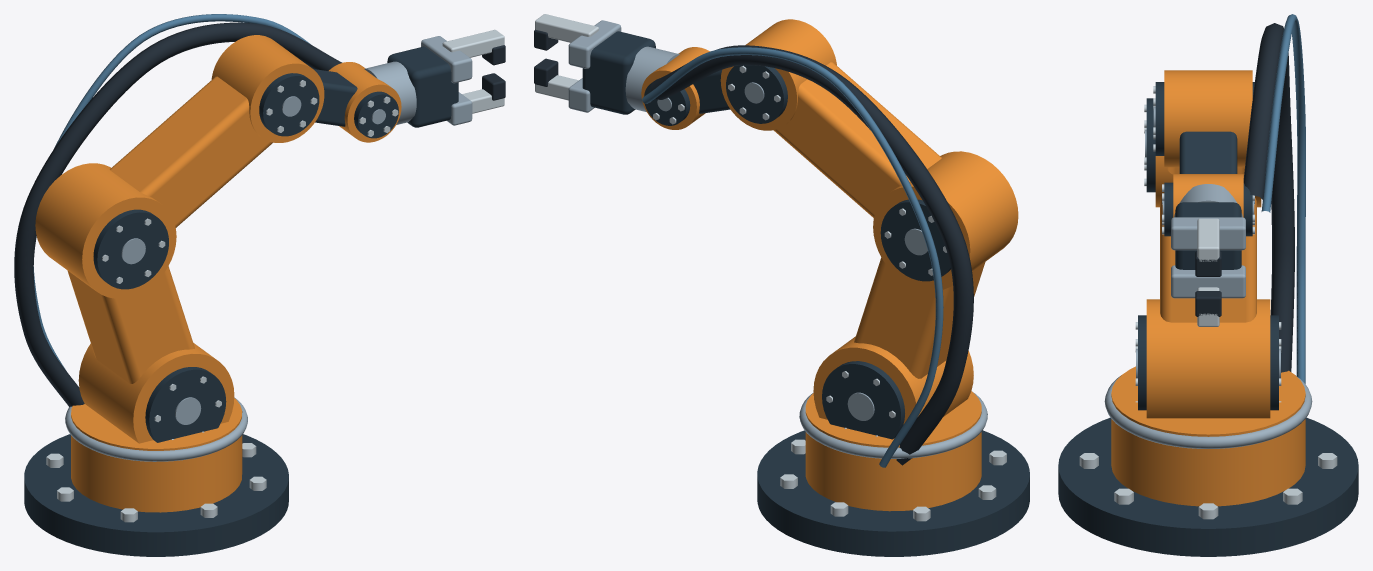
File: industrial-arm.gltf
The picture shows the model from 3 angles, left to right: view 1: azimuth 30°, elevation 25°; view 2: azimuth 150°, elevation 25°; view 3: azimuth 270°, elevation 25°; orthographic projection. The views are drawn at different scales.
Visible parts, largest first — view 1: Foot_flange, Forearm_casting, Rotary_base, Flexible_cable_loom, Joint_2_housing, Upper_arm_casting, Joint_1_housing, Joint_3_housing, Joint_2_cover_1, Joint_1_cover_1, Pneumatic_gripper_body, Joint_3_cover_1 (+8 smaller); view 2: Foot_flange, Rotary_base, Flexible_cable_loom, Forearm_casting, Joint_2_housing, Upper_arm_casting, Control_air_line, Joint_1_cover_-1, Joint_1_housing, Joint_3_housing, Pneumatic_gripper_body, Joint_2_cover_-1 (+11 smaller); view 3: Foot_flange, Rotary_base, Joint_1_housing, Flexible_cable_loom, Joint_3_housing, Control_air_line, Upper_arm_casting, Base_bearing, Wrist_link, Pneumatic_gripper_body, Gripper_slide_1, Gripper_slide_-1 (+13 smaller).
Part boxes in pixels (<box>): Foot_flange: <box>24,434,288,556</box>; Forearm_casting: <box>110,76,272,227</box>; Rotary_base: <box>71,398,242,512</box>; Flexible_cable_loom: <box>14,22,342,406</box>; Joint_2_housing: <box>35,163,176,298</box>; Upper_arm_casting: <box>67,266,194,383</box>; Joint_1_housing: <box>78,343,234,443</box>; Joint_3_housing: <box>211,35,324,142</box>; Joint_2_cover_1: <box>93,209,168,289</box>; Joint_1_cover_1: <box>145,367,226,442</box>; Pneumatic_gripper_body: <box>387,46,458,127</box>; Joint_3_cover_1: <box>259,73,319,136</box>; Foot_flange: <box>757,430,1029,556</box>; Rotary_base: <box>805,391,981,511</box>; Flexible_cable_loom: <box>650,45,973,465</box>; Forearm_casting: <box>773,62,941,217</box>; Joint_2_housing: <box>873,151,1018,290</box>; Upper_arm_casting: <box>854,257,985,378</box>; Control_air_line: <box>642,47,943,467</box>; Joint_1_cover_-1: <box>822,361,904,439</box>; Joint_1_housing: <box>813,336,973,424</box>; Joint_3_housing: <box>720,19,836,130</box>; Pneumatic_gripper_body: <box>582,31,655,114</box>; Joint_2_cover_-1: <box>880,199,950,281</box>; Foot_flange: <box>1058,417,1358,556</box>; Rotary_base: <box>1111,366,1305,506</box>; Joint_1_housing: <box>1146,299,1270,418</box>; Flexible_cable_loom: <box>1243,23,1294,372</box>; Joint_3_housing: <box>1164,70,1252,167</box>; Control_air_line: <box>1261,14,1305,383</box>; Upper_arm_casting: <box>1160,198,1256,322</box>; Base_bearing: <box>1104,375,1312,448</box>; Wrist_link: <box>1179,131,1237,173</box>; Pneumatic_gripper_body: <box>1175,202,1241,269</box>; Gripper_slide_1: <box>1171,217,1245,250</box>; Gripper_slide_-1: <box>1171,265,1245,298</box>.
Size of the model in its own units: 136 by 125 by 68.
